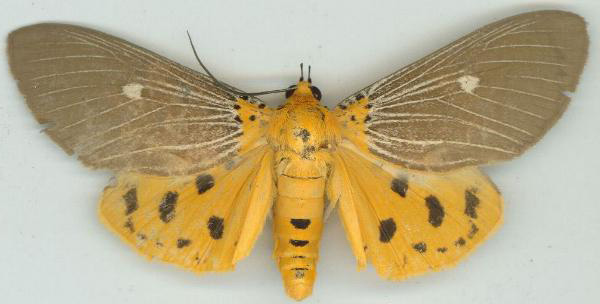Agape chloropyga: (5, 6, 600, 304)
moth: (3, 4, 598, 302)
